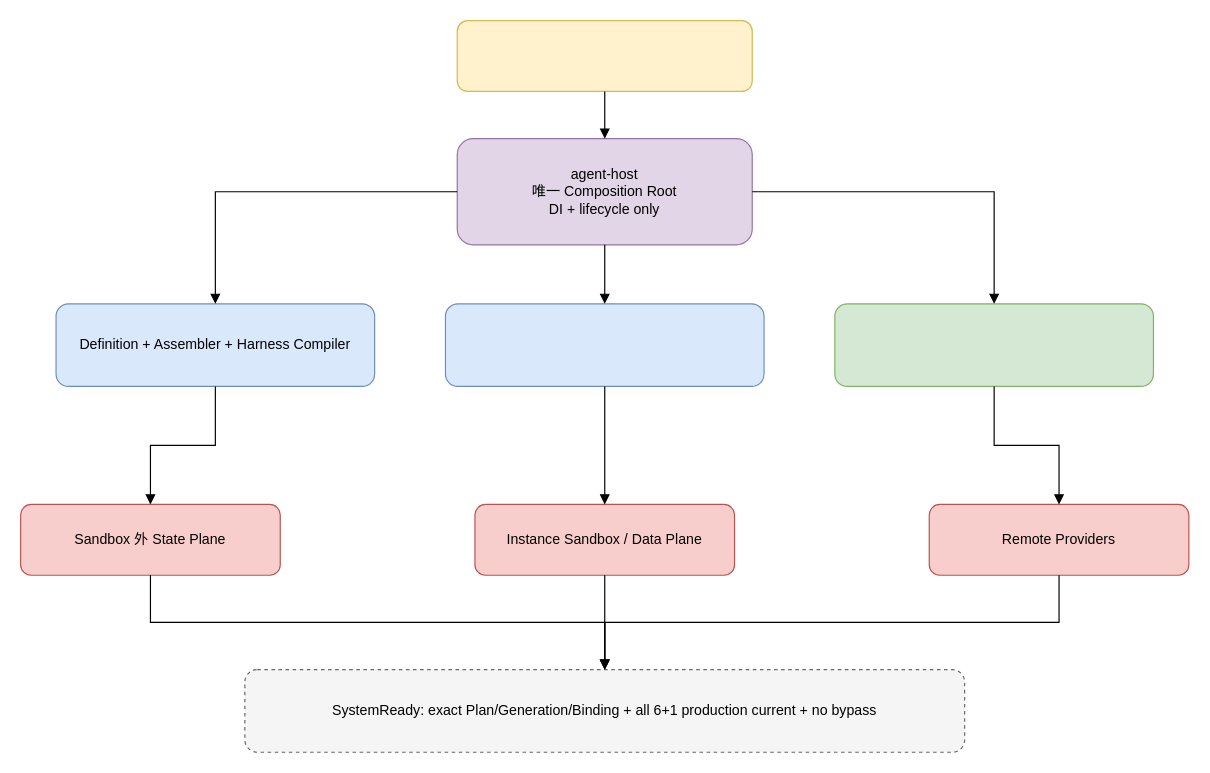
This 1210x773 diagram has some shape labels left out. The centre of each missing label's shape, as x and y in pixels:
6+1 Owner public factories/adapters + custom components: (x=993, y=344)
praxis-agent CLI / Host API: (x=604, y=55)
Runtime Control/Kernel public ports + Application coordinators: (x=604, y=344)
